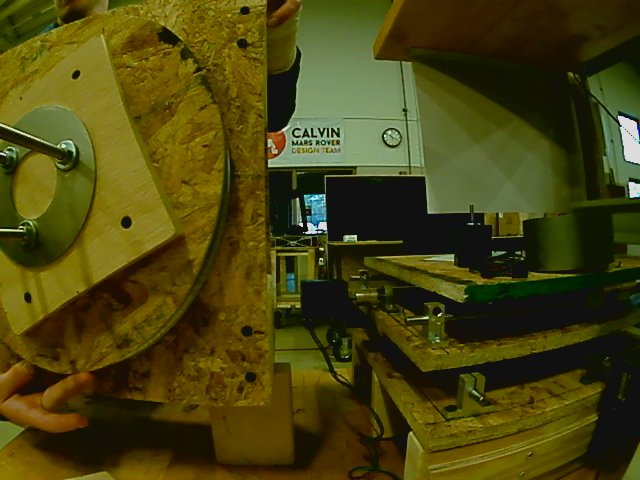bolt: (15, 219, 41, 254), (53, 137, 78, 173)
